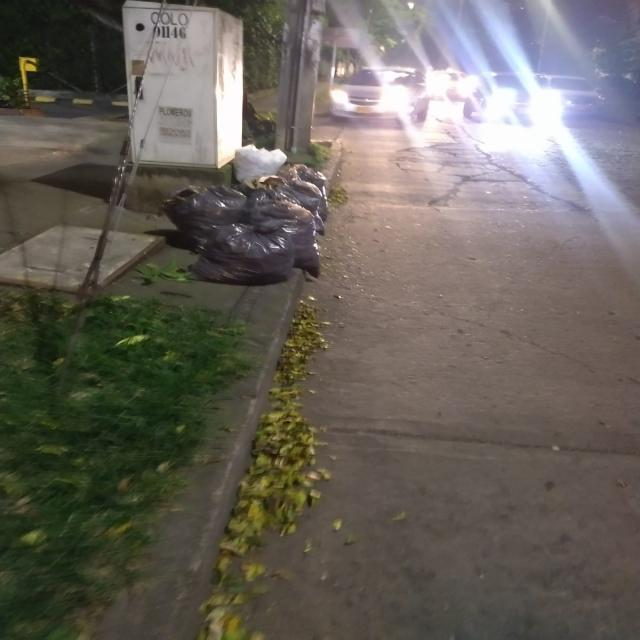Trashbag: (201, 228, 293, 290), (170, 186, 240, 239), (250, 188, 302, 246), (296, 168, 331, 220)
